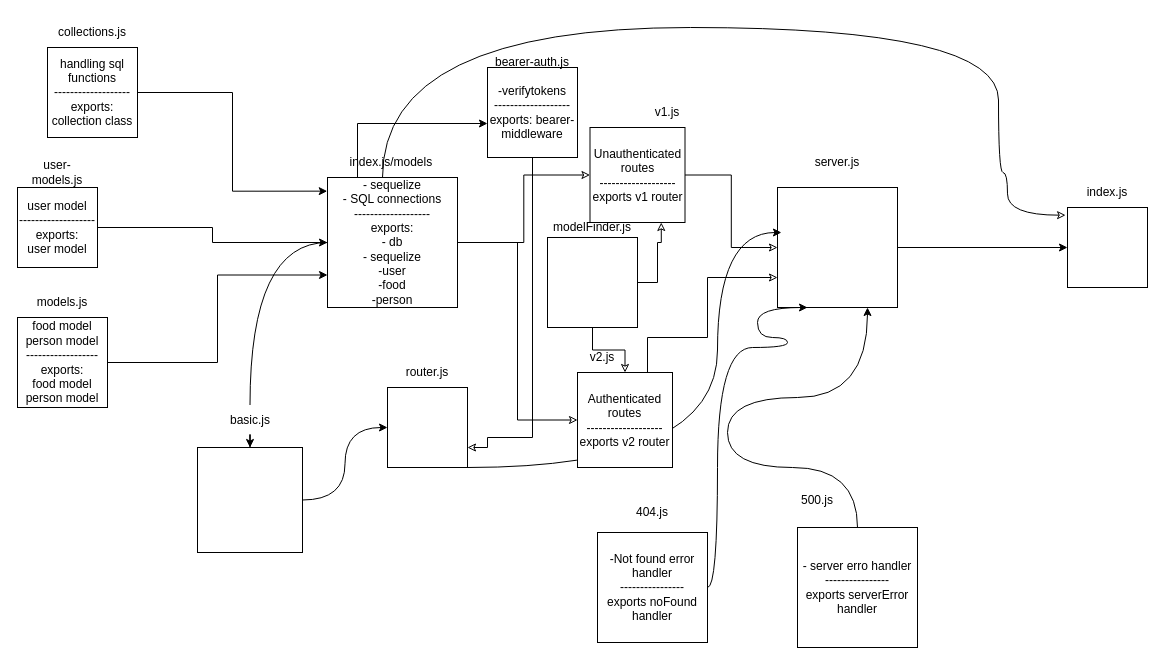
Image size: 1165x665. Some labels were removed from this diagram. Here are the shapes that lost their labels. From the top down, the centre of each, then its label:
At [837,247]: "- Server - app initiation - port listner --------------- exports: - app - start".
At [1107,247]: "- starts server - starts database".
At [592,282]: "- find model ------------------- exports modelFinder middleware".
At [427,427]: "- routers -signin router -signup router ---------------- exports router".
At [249,499]: "- basic auth middleware - creates token ---------------- export basicAuth".
